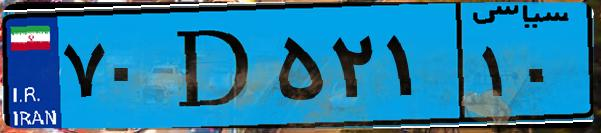0: (525, 38, 570, 115), (110, 28, 158, 98)
1: (385, 28, 445, 110), (475, 38, 525, 113)
2: (330, 28, 385, 110)
5: (270, 28, 330, 110)
7: (57, 26, 110, 100)
D: (158, 12, 270, 120)
